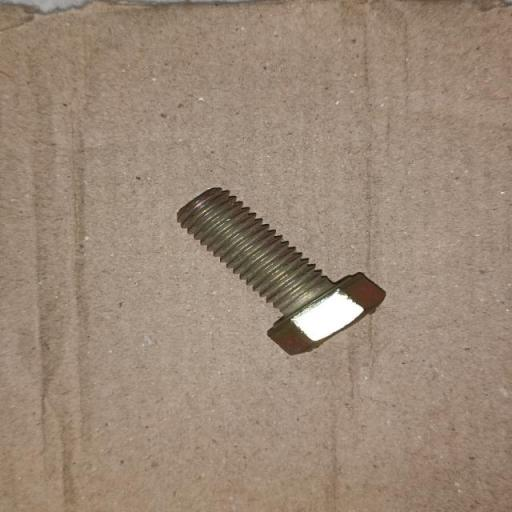Bolt: (176, 187, 386, 356)
